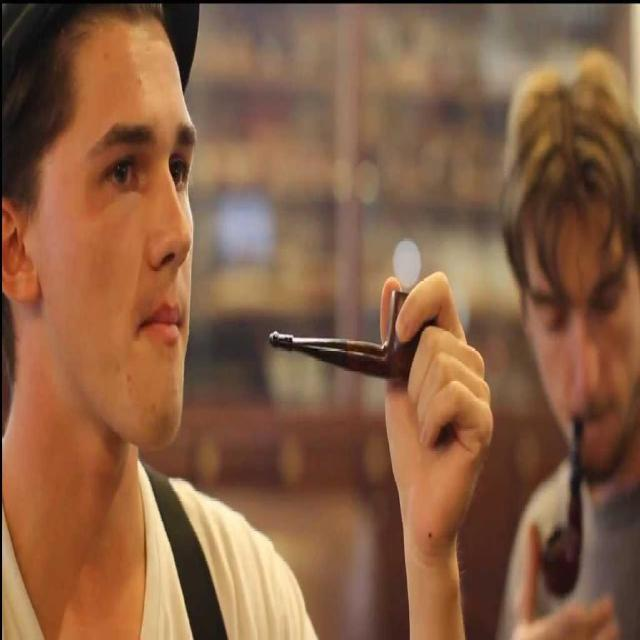smoking: (36, 13, 492, 510), (503, 174, 640, 638)
